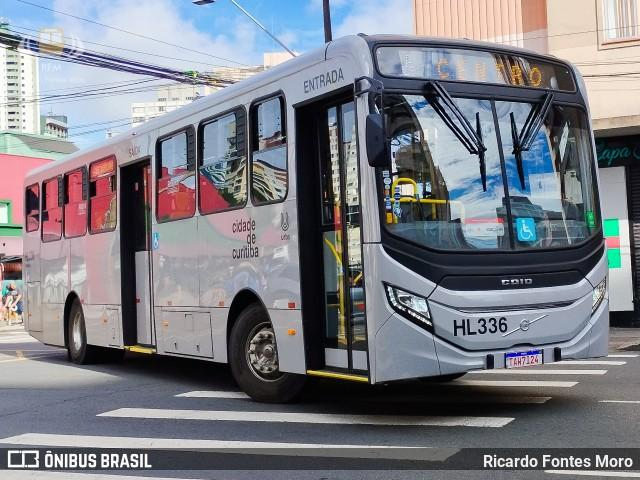CENTRO: (430, 53, 547, 91)
